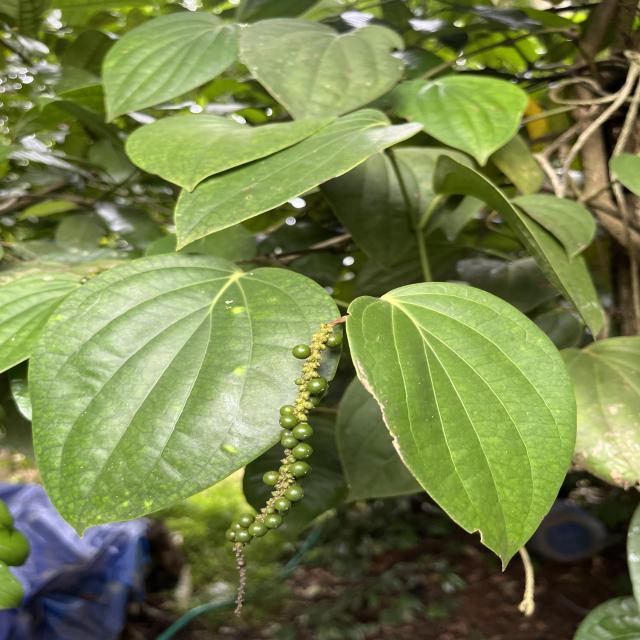Piper nigrum: (26, 250, 346, 542), (344, 280, 579, 573)
